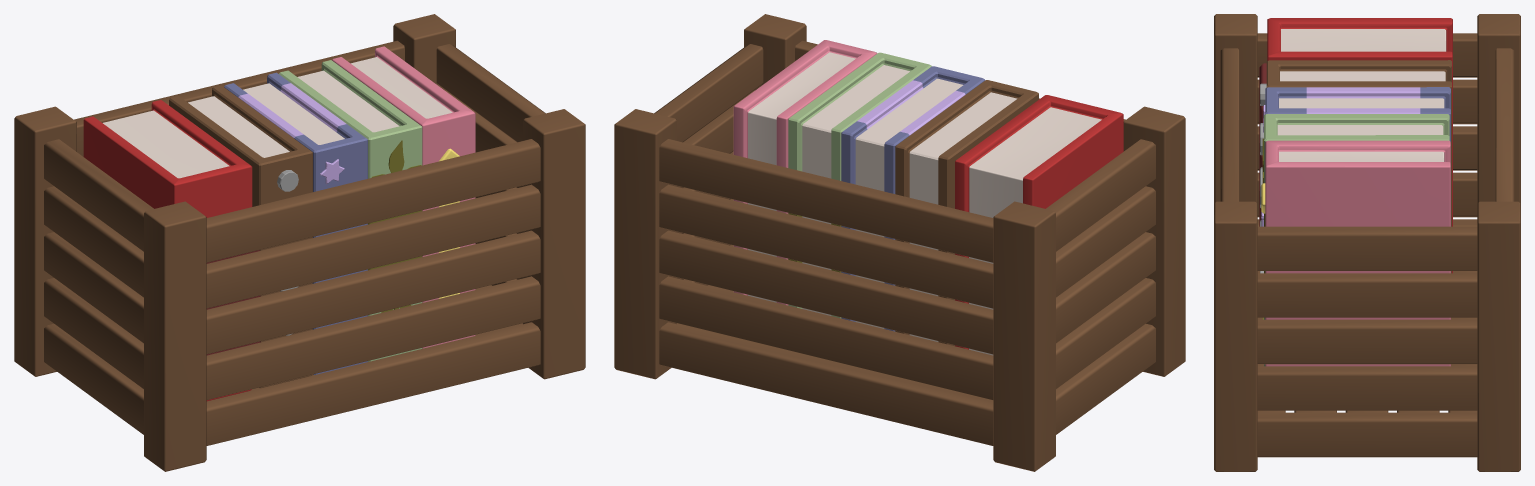
Rendered from Box_with_Books_1.glb.
The picture shows the model from 3 angles, left to right: view 1: azimuth 30°, elevation 25°; view 2: azimuth 150°, elevation 25°; view 3: azimuth 270°, elevation 25°; orthographic projection.
Visible parts, largest first — view 1: Box_with_Books_1; view 2: Box_with_Books_1; view 3: Box_with_Books_1.
Part boxes in pixels (bbox=[...]): Box_with_Books_1: bbox=[14, 14, 585, 471]; Box_with_Books_1: bbox=[614, 14, 1185, 471]; Box_with_Books_1: bbox=[1214, 14, 1520, 471].
Bounding box in the file's own units: 0.7713 × 0.4541 × 0.4783.
1 material, 1 textured.
